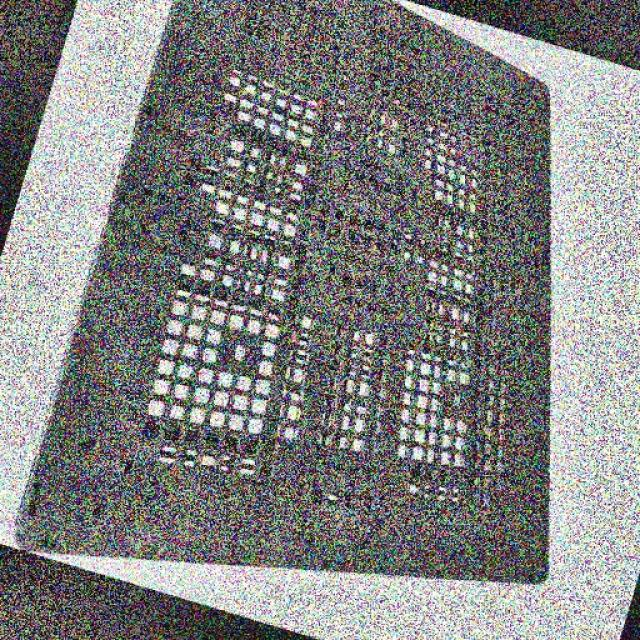non-igps: (12, 0, 555, 588)
